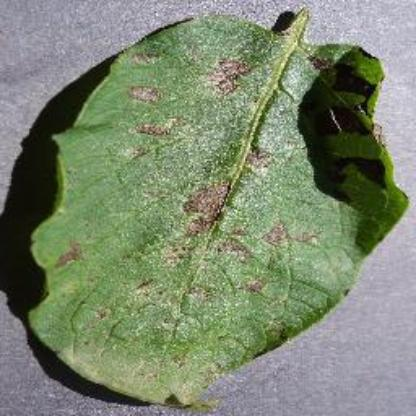Early-Blight: (31, 6, 402, 408)
